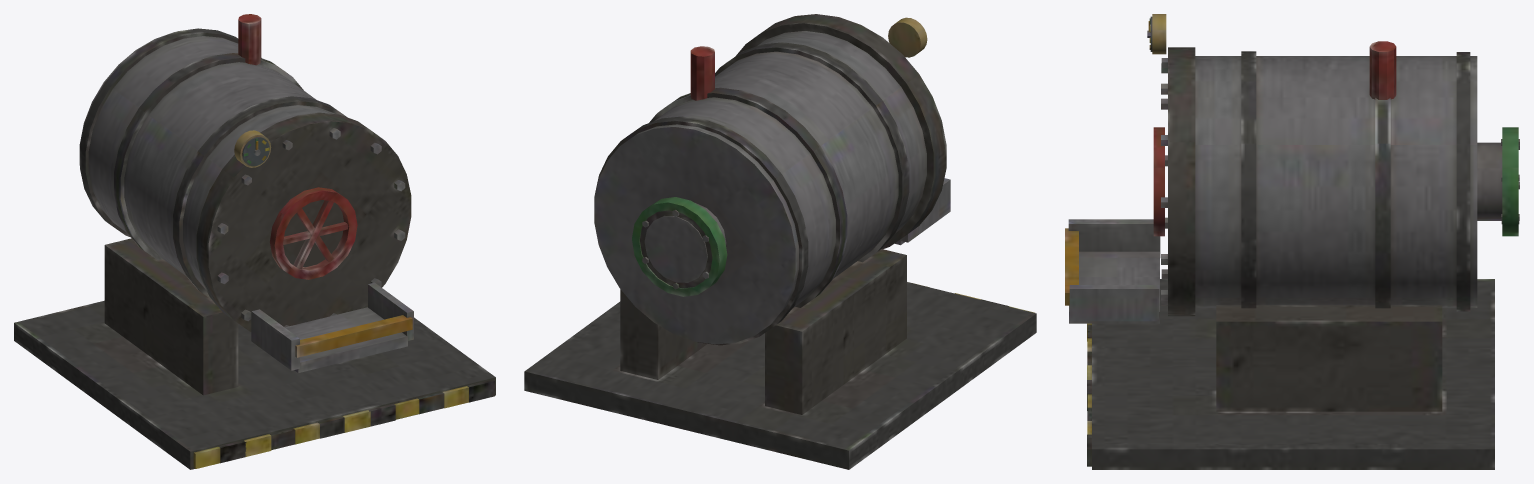
The model's file is feAutoclave.glb.
3 views of the same model, side by side, from view 1: azimuth 30°, elevation 25°; view 2: azimuth 150°, elevation 25°; view 3: azimuth 270°, elevation 25° (orthographic). The views are drawn at different scales.
Parts seen in each view (by area): view 1: feAutoclave_Base; view 2: feAutoclave_Base; view 3: feAutoclave_Base.
Boxes of the visible parts, x1,y1,x2,y2 form: feAutoclave_Base: (14, 14, 495, 469); feAutoclave_Base: (524, 14, 1036, 469); feAutoclave_Base: (1065, 14, 1519, 469).
Size of the model in its own units: 0.9012 by 0.8806 by 1.02.
Materials: 1 (1 with a texture image).
